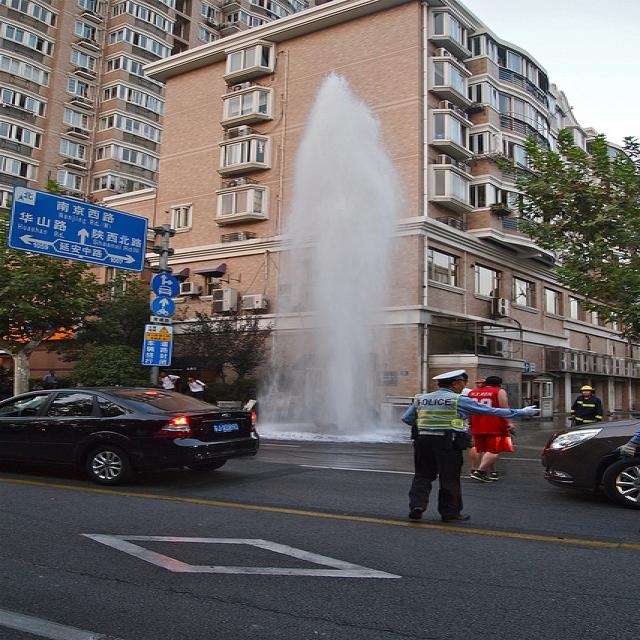Vehicle: (7, 386, 270, 486), (541, 414, 640, 510)
